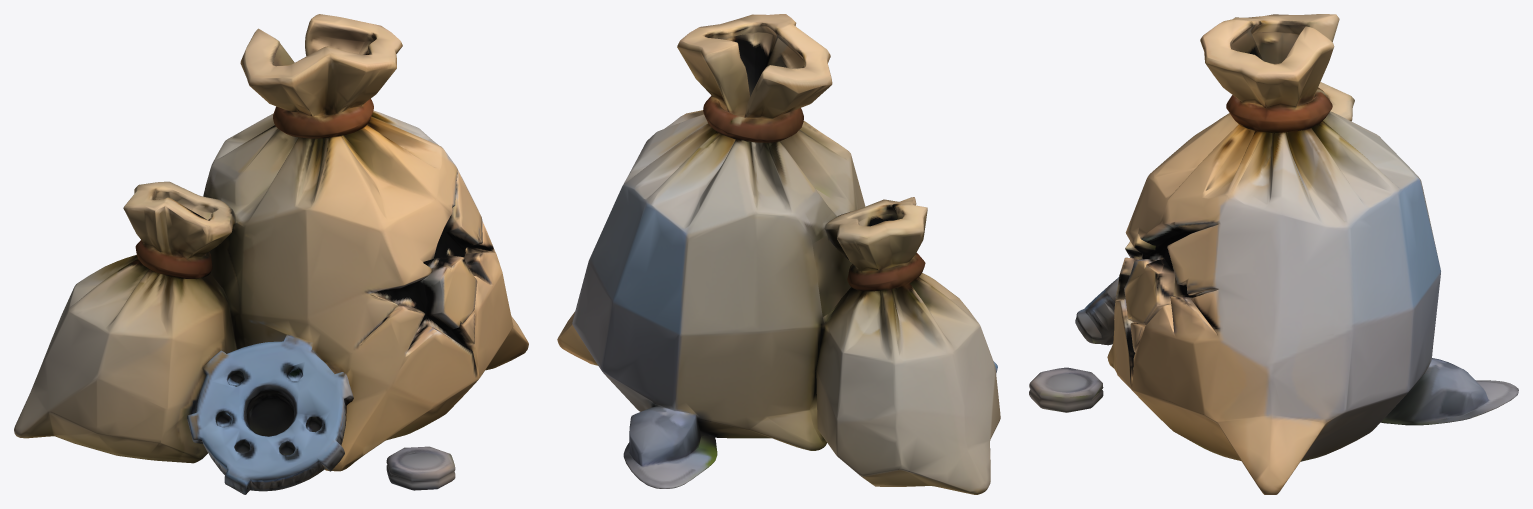
File: bag.fbx
The picture shows the model from 3 angles, left to right: view 1: azimuth 30°, elevation 25°; view 2: azimuth 150°, elevation 25°; view 3: azimuth 270°, elevation 25°; orthographic projection. The views are drawn at different scales.
Parts seen in each view (by area): view 1: bag; view 2: bag; view 3: bag.
Boxes of the visible parts, box(x1,y1,x2,y2) form: bag: box(14, 14, 528, 494); bag: box(557, 14, 1000, 494); bag: box(1029, 14, 1518, 494).
Size of the model in its own units: 43.21 by 32.91 by 38.2.
1 material, 1 textured.
